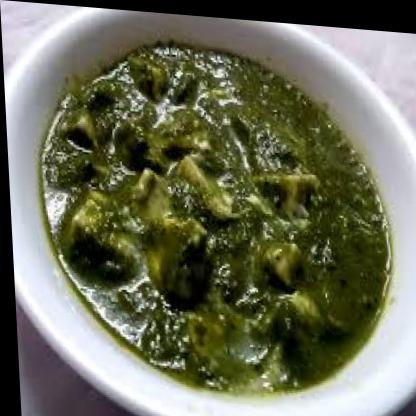palak_paneer: (33, 29, 393, 401)
